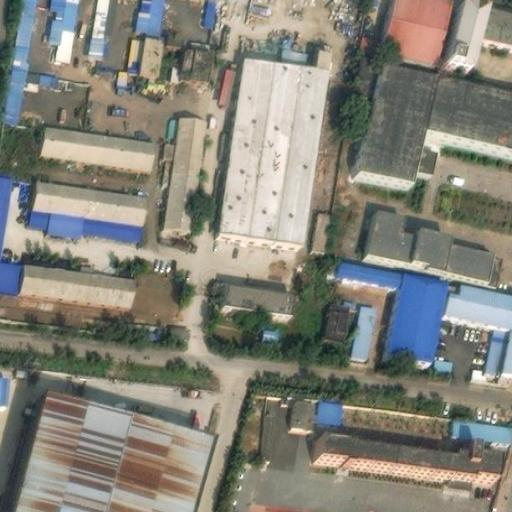building: (13, 382, 217, 512), (222, 42, 331, 238), (337, 252, 448, 359), (358, 61, 435, 180), (370, 204, 496, 273), (321, 432, 499, 476), (423, 72, 512, 152), (442, 277, 512, 365), (161, 109, 208, 230), (42, 119, 156, 165), (32, 174, 146, 219), (20, 258, 137, 300), (384, 0, 453, 60), (30, 204, 142, 234), (3, 60, 58, 117), (442, 0, 485, 66), (0, 170, 24, 286), (224, 275, 294, 304), (45, 0, 79, 56), (288, 393, 343, 427), (125, 29, 163, 71), (326, 295, 361, 339), (451, 414, 512, 439), (13, 0, 36, 62), (180, 33, 215, 73), (485, 318, 510, 371), (353, 300, 375, 353), (91, 0, 111, 52), (212, 64, 236, 106), (135, 0, 162, 33), (417, 135, 440, 167), (314, 205, 331, 246), (0, 371, 12, 405), (257, 326, 279, 344)
